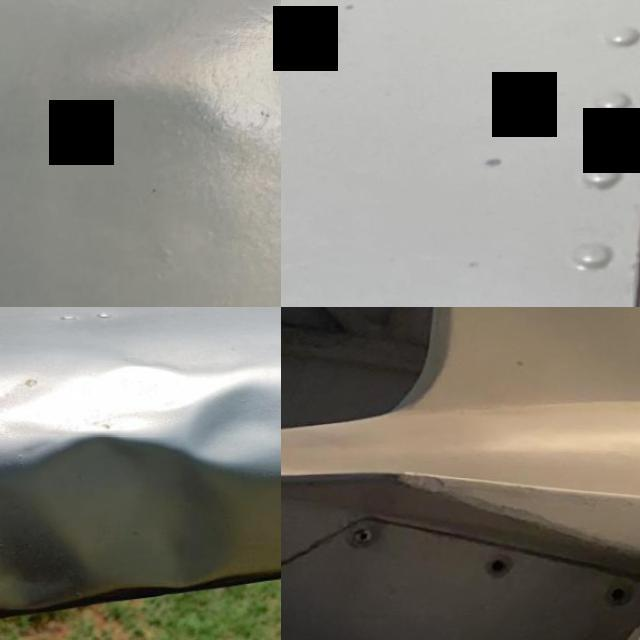Dent: (0, 327, 281, 634)
Missing_Fastener: (484, 556, 518, 576), (606, 584, 639, 604)
